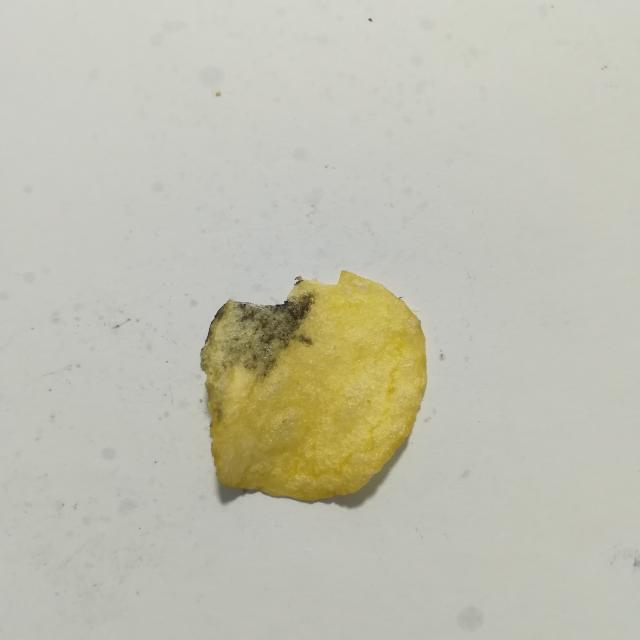chip: (201, 271, 427, 501)
semi-damaged: (200, 289, 315, 428), (294, 276, 304, 285)
